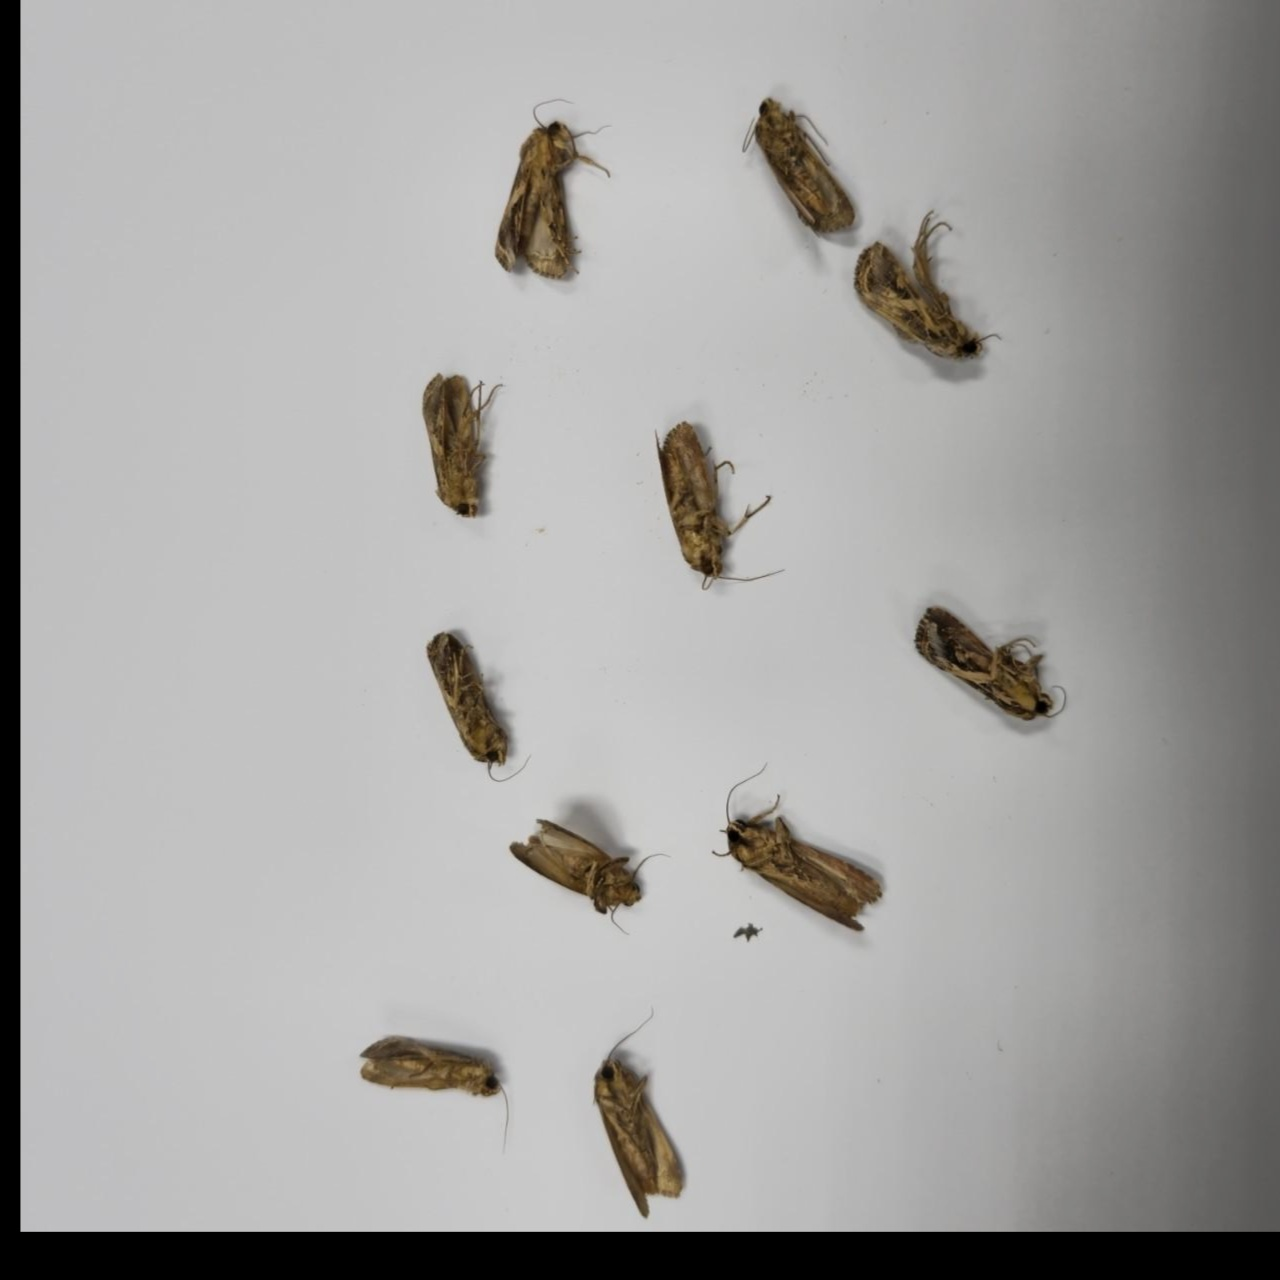Spodoptera litura: (712, 762, 881, 930), (853, 207, 1002, 360), (655, 418, 785, 590), (493, 97, 612, 280), (508, 818, 672, 937), (592, 1005, 683, 1217), (358, 1034, 508, 1152), (914, 605, 1065, 720), (741, 98, 855, 238), (425, 631, 530, 781), (421, 372, 503, 518)
